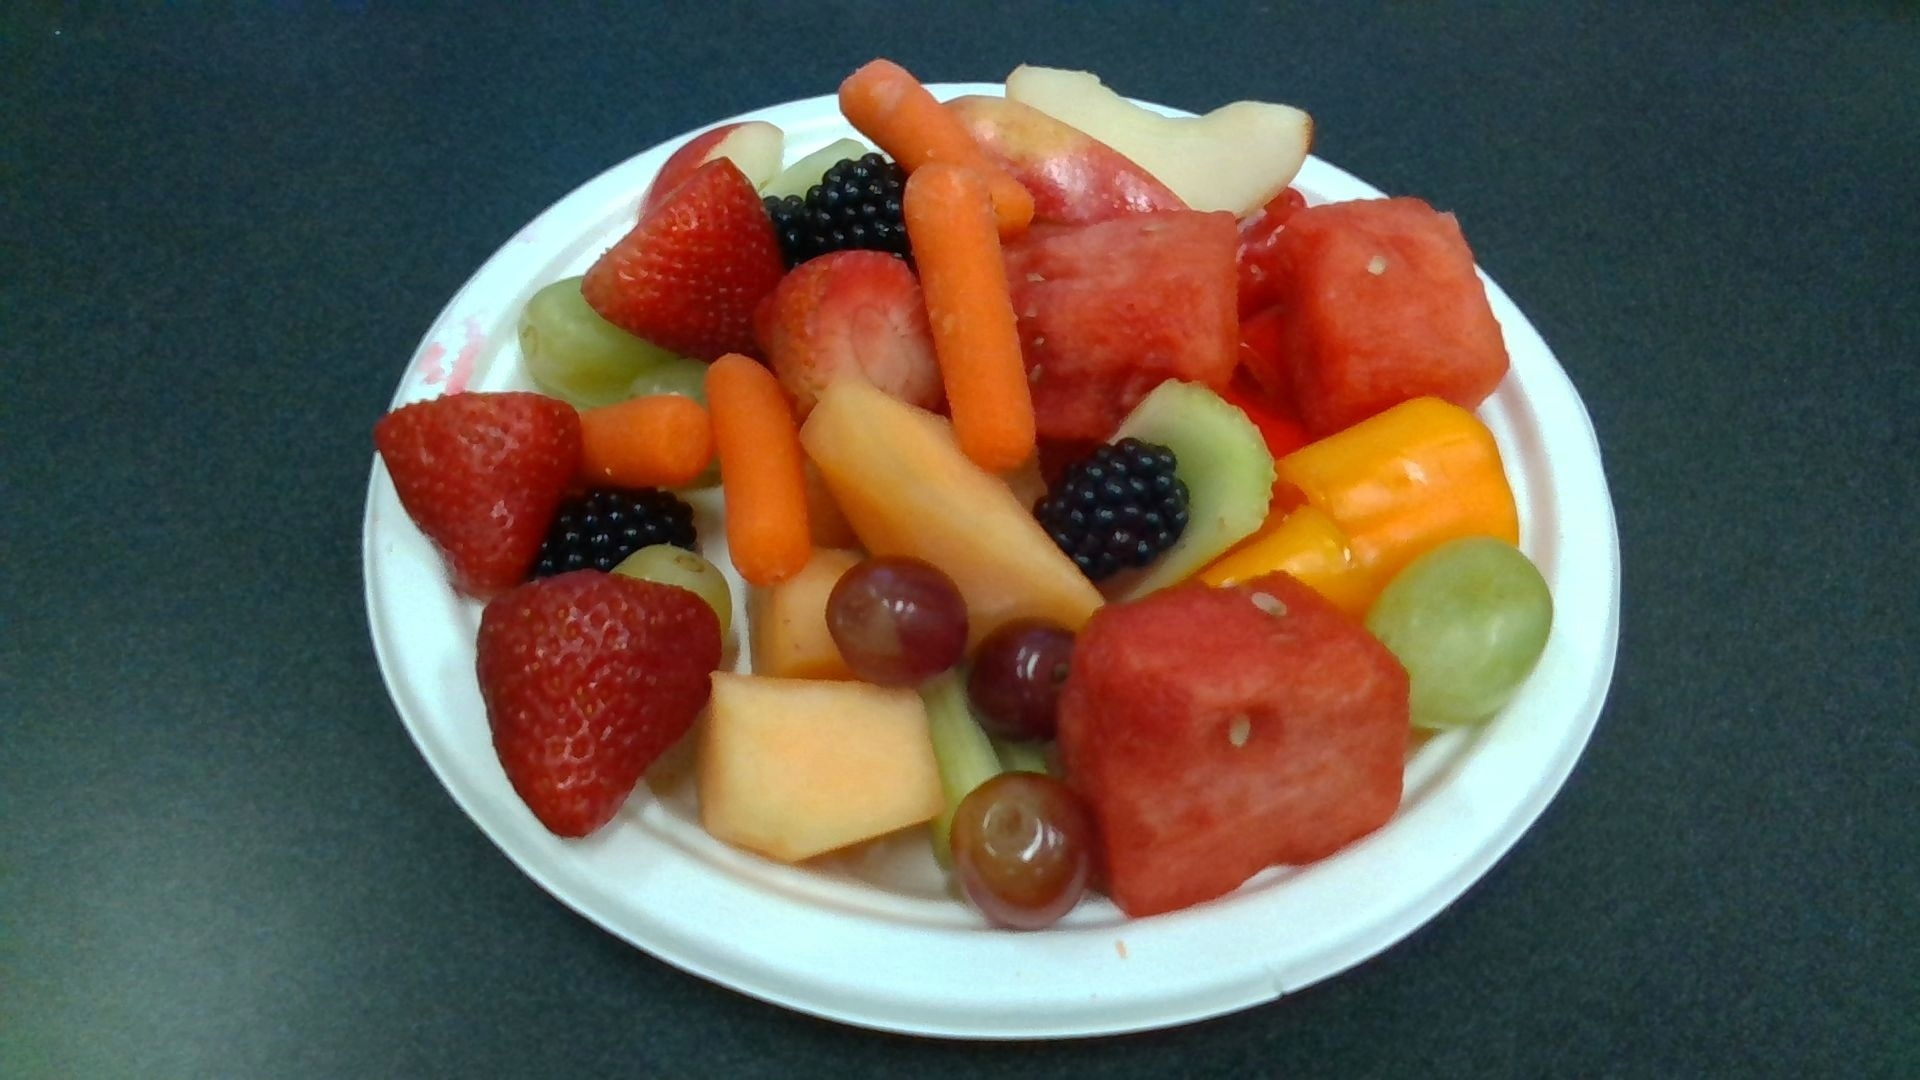apple: (1010, 69, 1312, 204)
bell_pepper: (1279, 401, 1516, 595)
blackberry: (1033, 444, 1189, 575)
cantalope: (800, 375, 1100, 630), (699, 671, 944, 856)
carrot: (905, 158, 1034, 468), (840, 55, 1039, 237), (702, 351, 814, 585)
grape_green: (1365, 535, 1553, 728)
grape_purple: (949, 775, 1092, 934), (827, 558, 967, 680)
melon: (1060, 575, 1407, 916), (1002, 210, 1240, 440), (1273, 196, 1507, 429)
strawberry: (475, 574, 720, 836), (375, 396, 582, 589), (582, 158, 785, 355), (752, 251, 942, 418)
